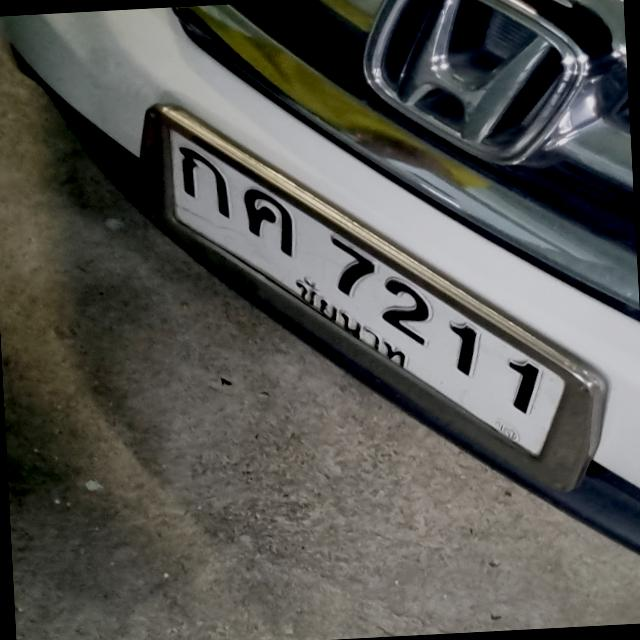license_plate: (130, 76, 602, 543)
